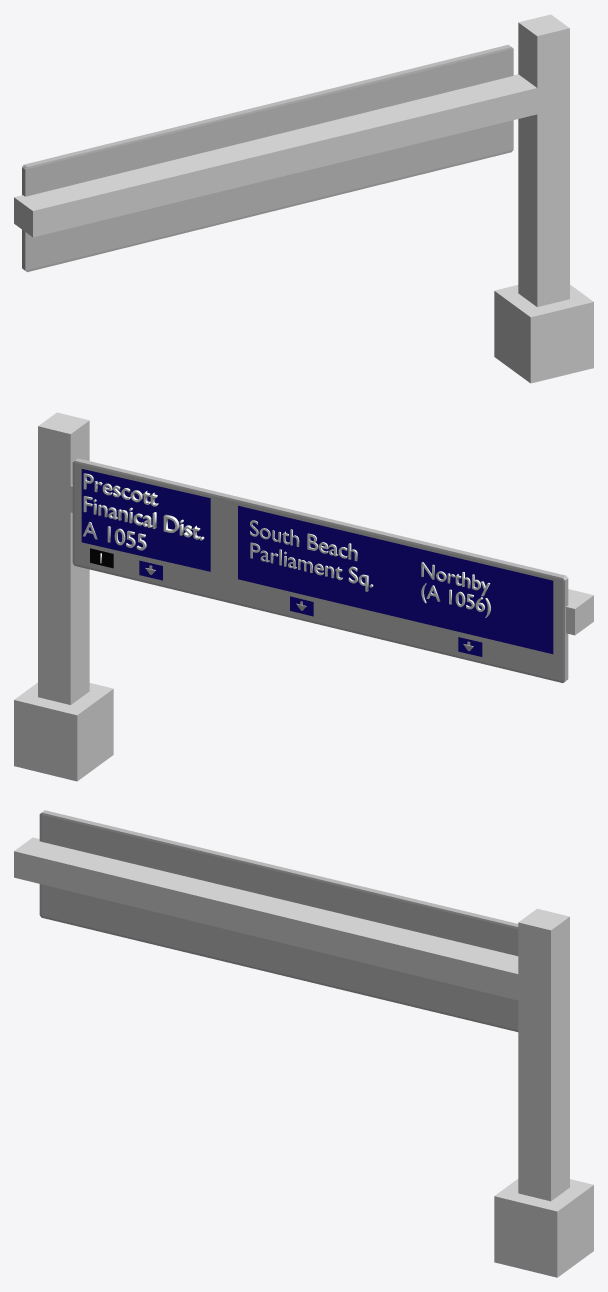
File: M150JCT1ExitSignWestbound.fbx
3 renders of one model, top to bottom at view 1: azimuth 30°, elevation 25°; view 2: azimuth 150°, elevation 25°; view 3: azimuth 330°, elevation 25°, orthographic.
Visible parts, largest first — view 1: Cube, Cube.008; view 2: Cube, Plane.005, Cube.008, Plane.001, Text, Text.002, Text.003, Text.001; view 3: Cube, Cube.008.
Boxes of the visible parts, x1,y1,x2,y2 form: Cube: [14, 14, 593, 383]; Cube.008: [22, 44, 513, 272]; Cube: [14, 412, 593, 781]; Plane.005: [238, 505, 553, 654]; Cube.008: [72, 458, 568, 682]; Plane.001: [81, 469, 210, 571]; Text: [83, 473, 204, 540]; Text.002: [250, 520, 373, 591]; Text.003: [421, 562, 490, 617]; Text.001: [83, 522, 146, 550]; Cube: [14, 837, 593, 1277]; Cube.008: [39, 810, 518, 1031].
Size of the model in its own units: 17.46 by 10.19 by 2.
